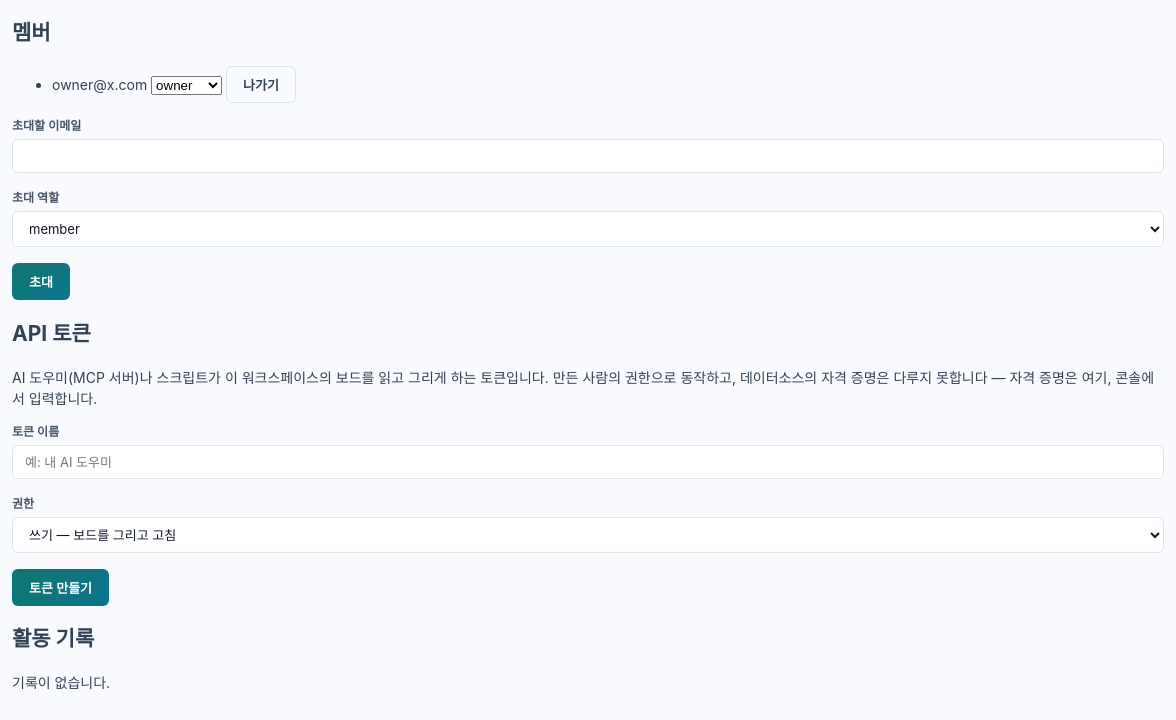
SettingsPage › submits an invitation with the chosen role and shows the generated link
Expected: the button "초대" is shown, left=12, top=263, right=70, bottom=300
Type "new@x.com" into the field labelled "초대할 이메일".
click(588, 156); type("new@x.com")  # box left=12, top=139, right=1164, bottom=173
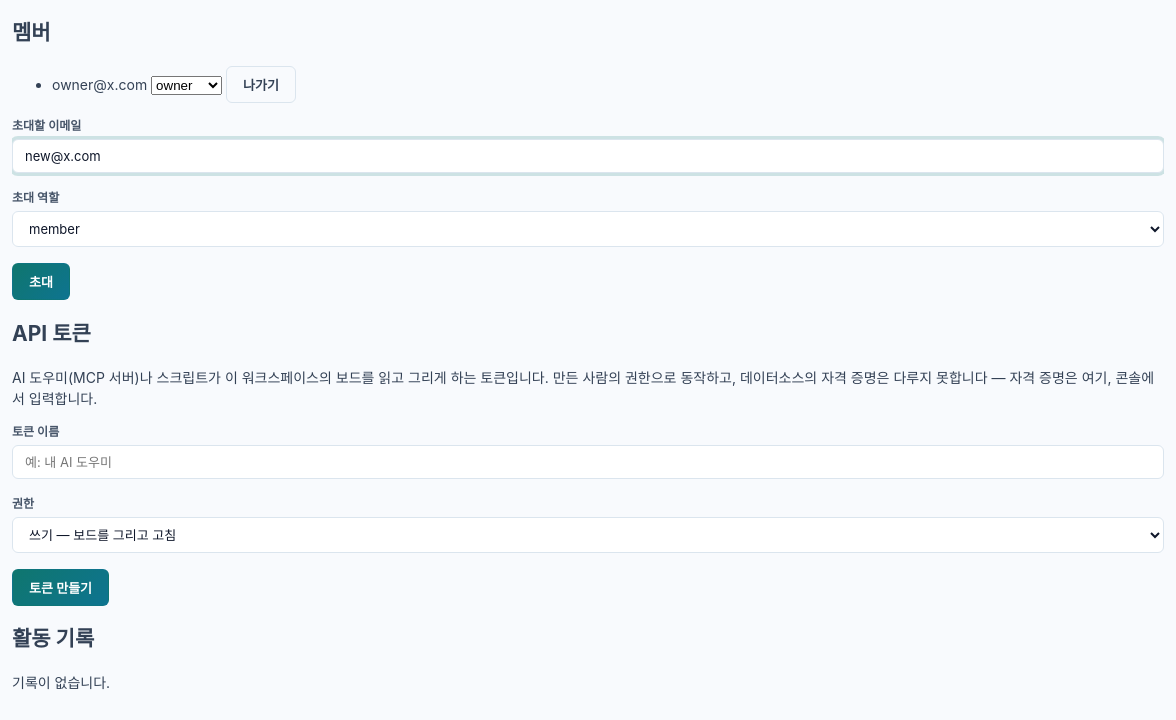
Select "owner" in the dropdown labelled "초대 역할" at (588, 229), box left=12, top=211, right=1164, bottom=247
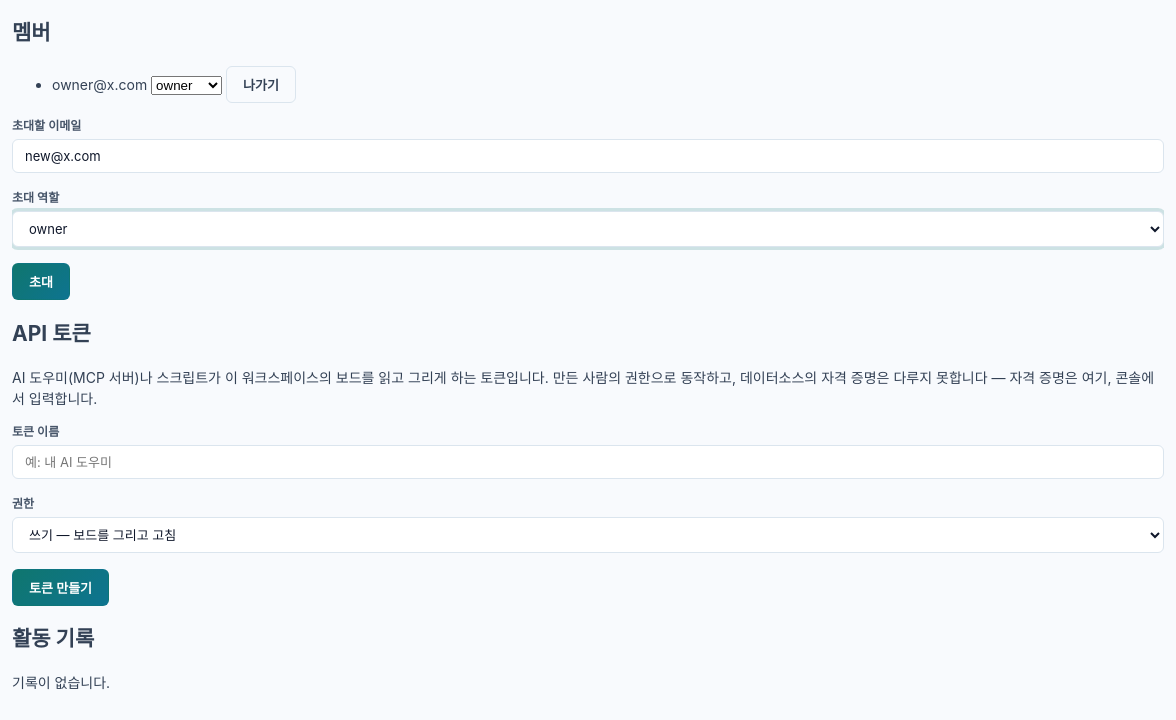
Click the button "초대".
click(41, 282)  # box left=12, top=263, right=70, bottom=300
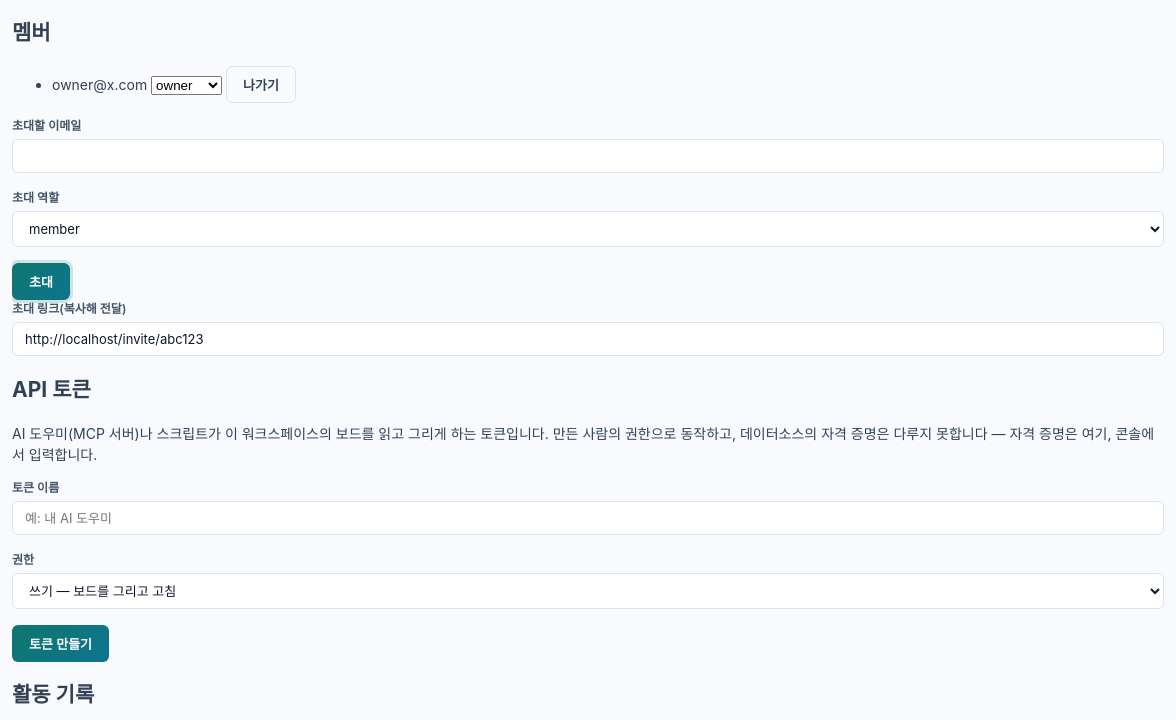
Expected: the field showing "/invite/abc123" is shown, left=12, top=322, right=1164, bottom=356
